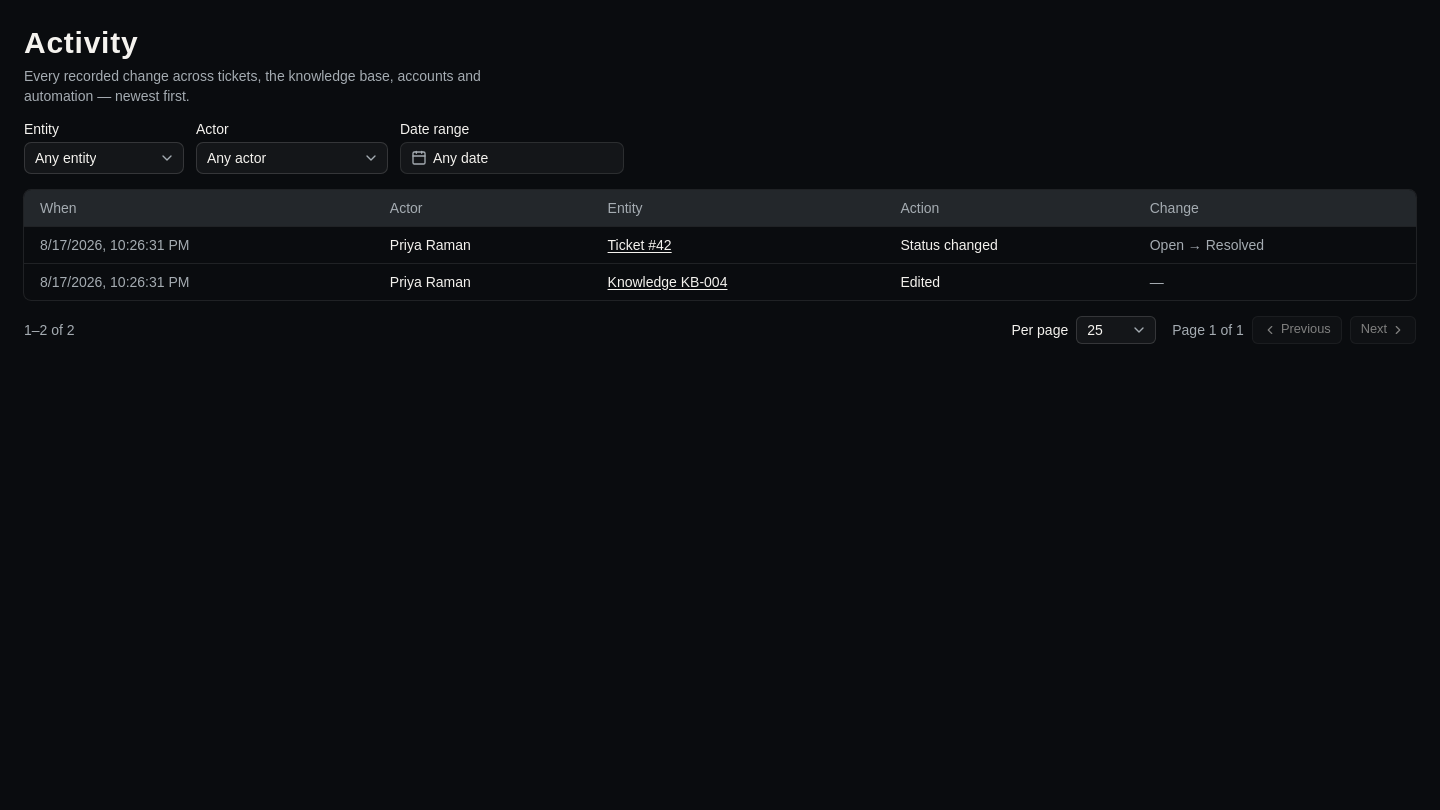
Test: ActivityPage filtering › abandoning an in-progress pick by closing the popover doesn't commit it
Expected: the text "Status changed" is shown, [884,226,1134,263]
Click the button "Any date". click: (512, 158)
box: [400,142,624,174]
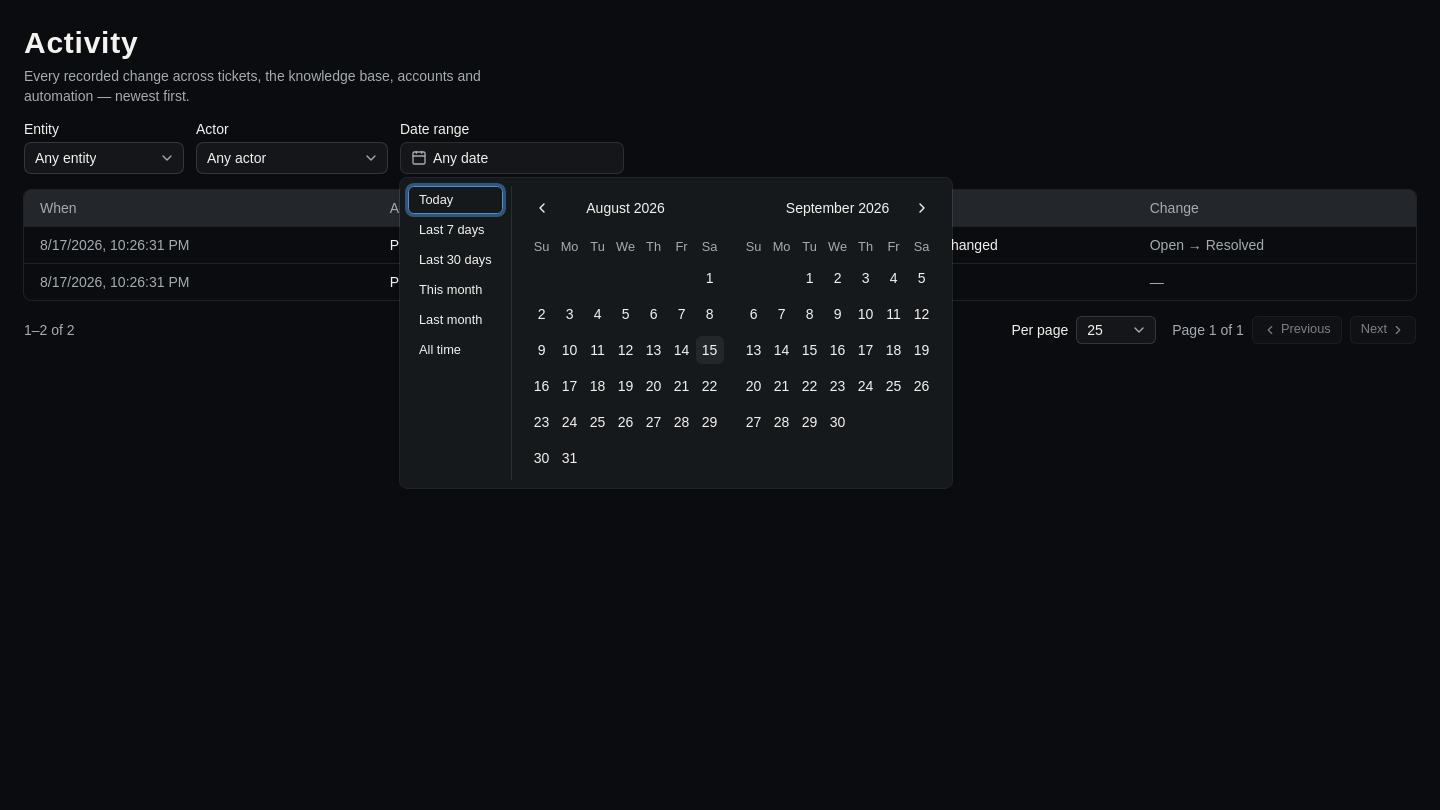
Click the button "1" below "August 2026". click: (710, 278)
box: [696,264,724,292]
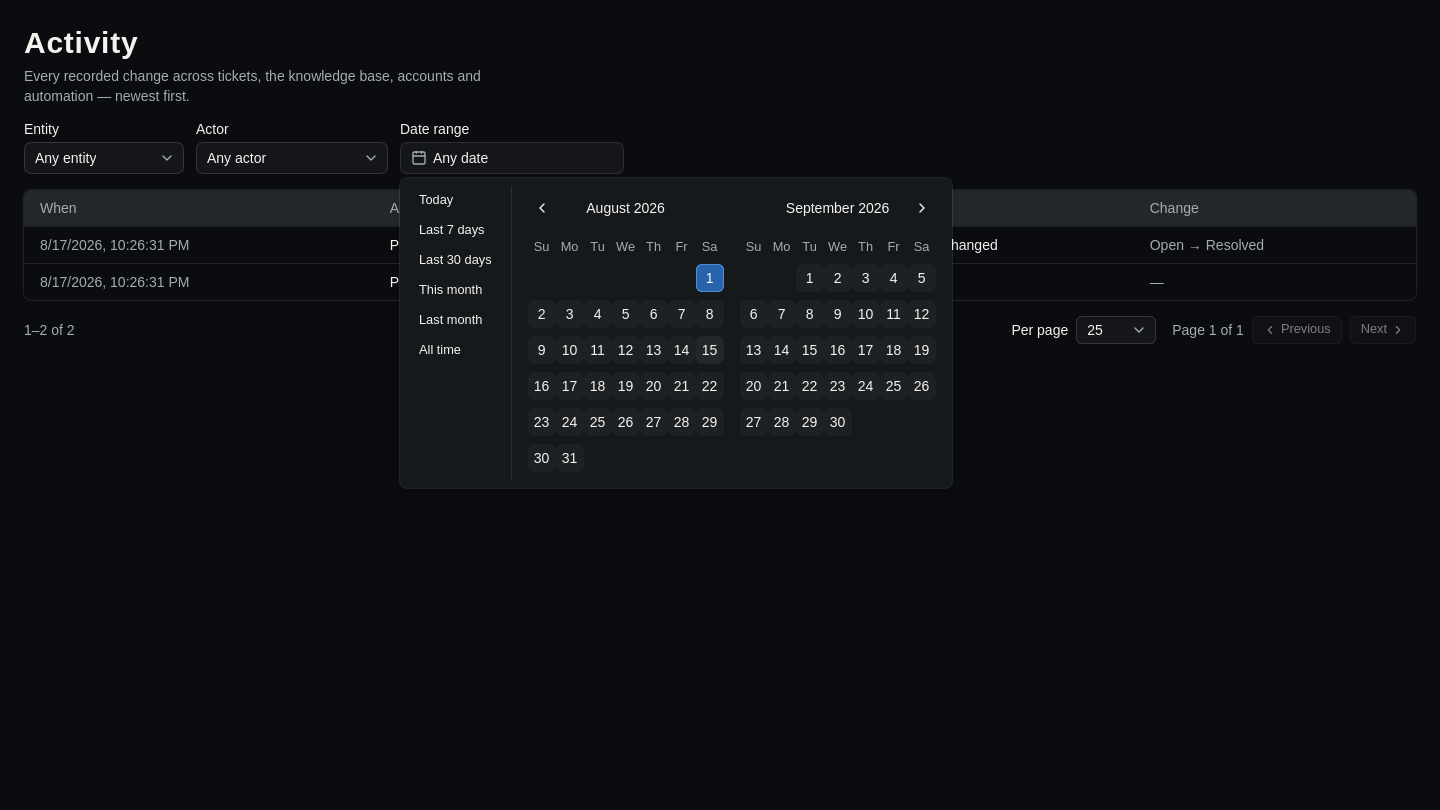
Press Escape
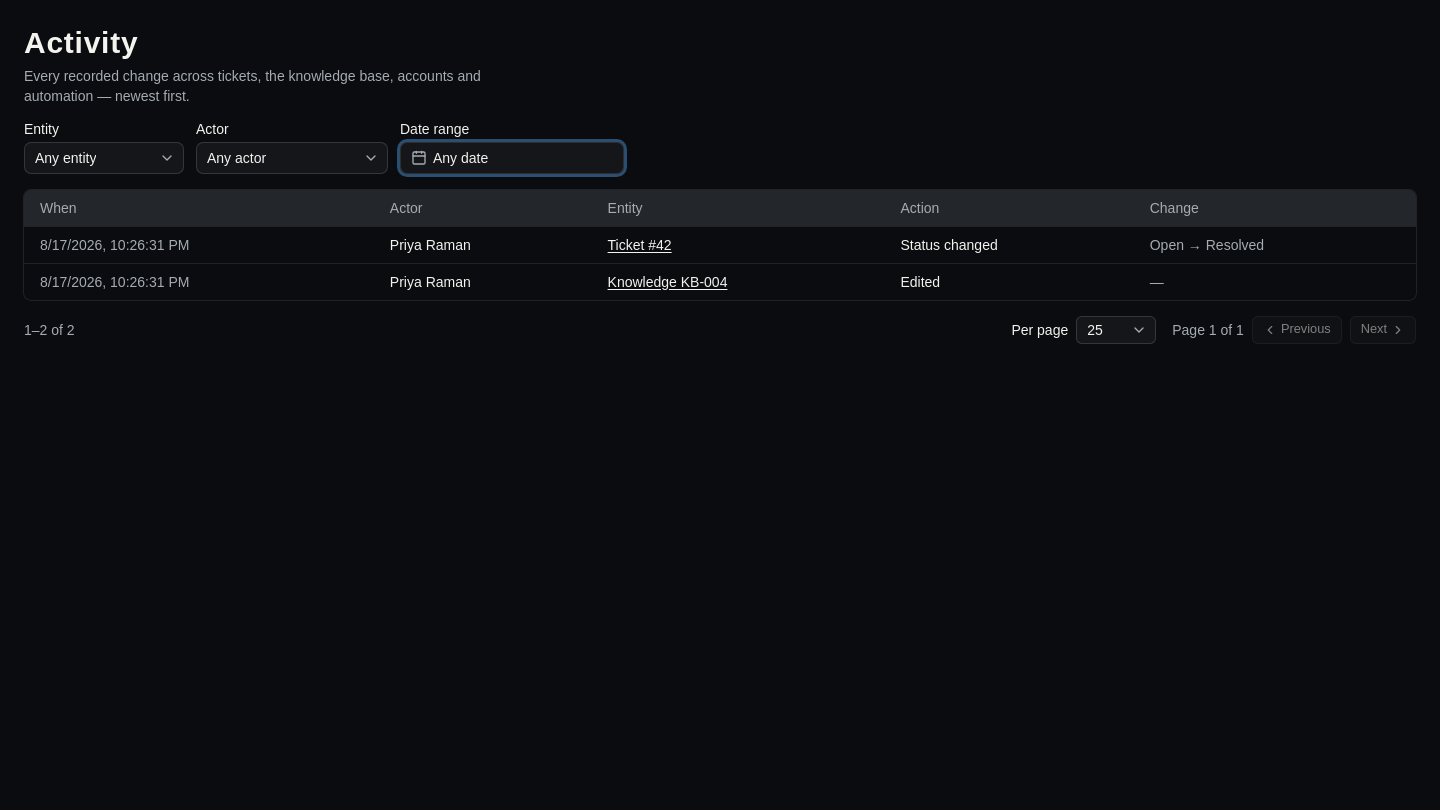
Expected: the button named "Date range" reads "Any date", [400,142,624,174]
Now the dialog is gone
